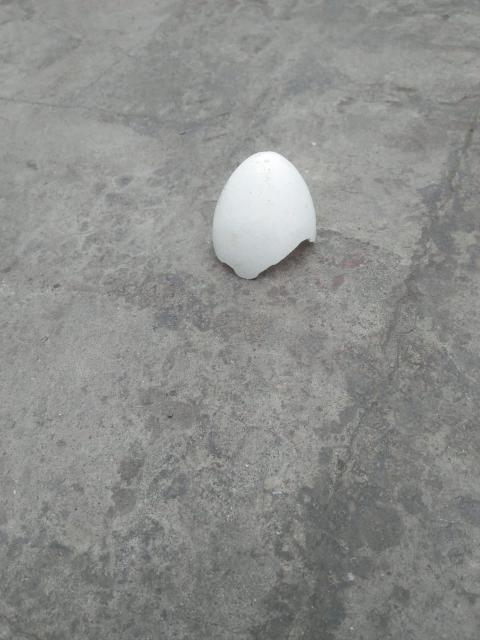Roto: (211, 150, 317, 280)
